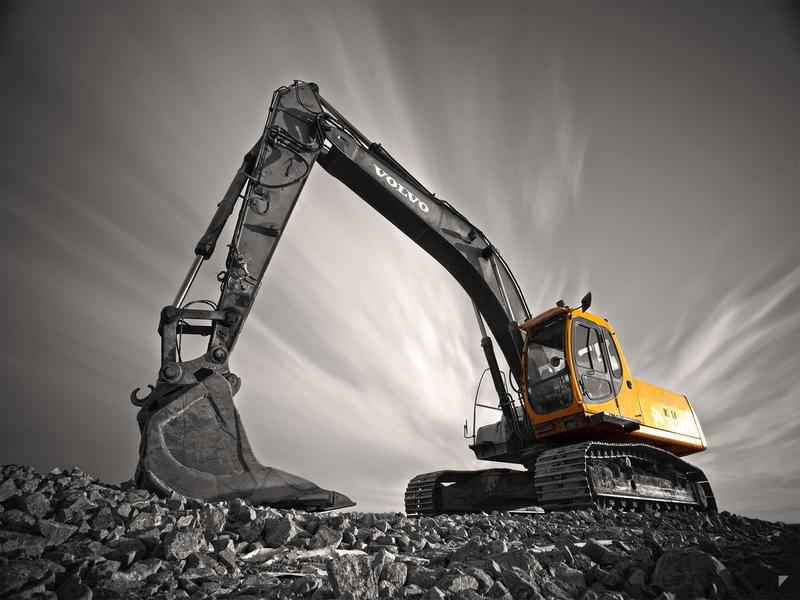shovel: (128, 68, 717, 522)
